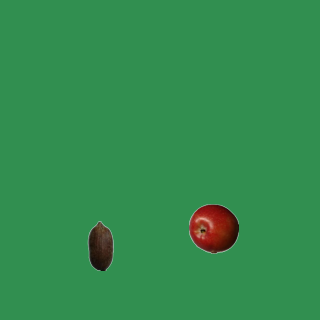Apple Braeburn: (188, 203, 238, 253)
Nut Pecan: (75, 220, 125, 270)
